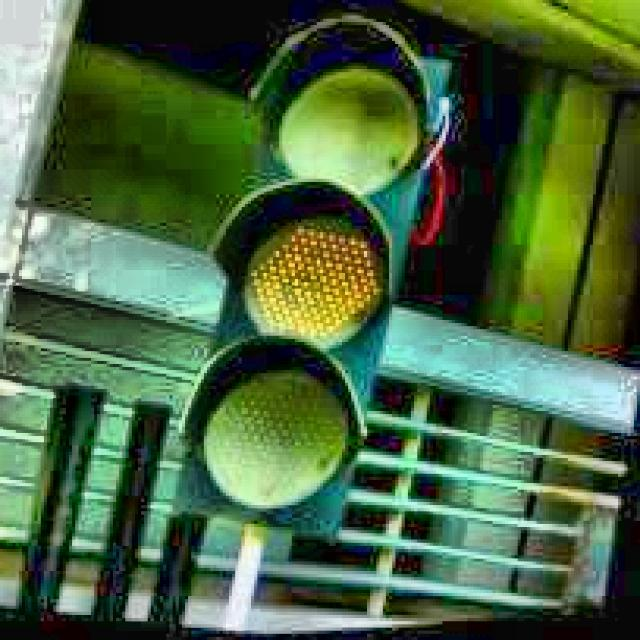yellow: (154, 0, 455, 555)
